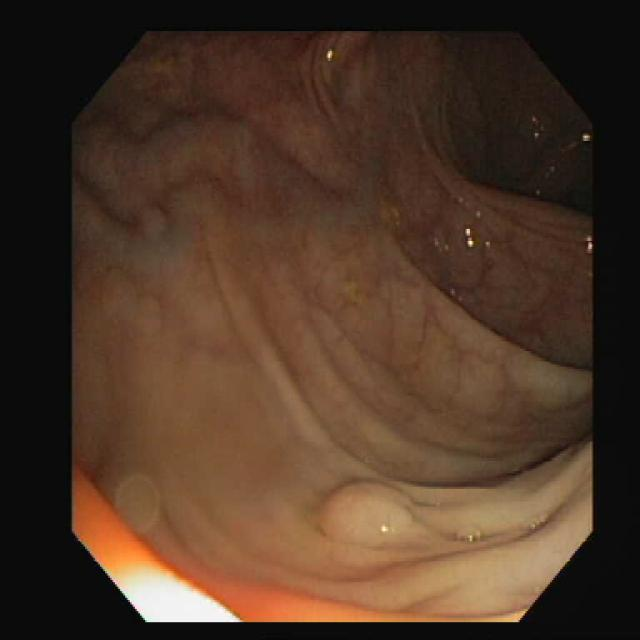tumor: (318, 482, 440, 549)
